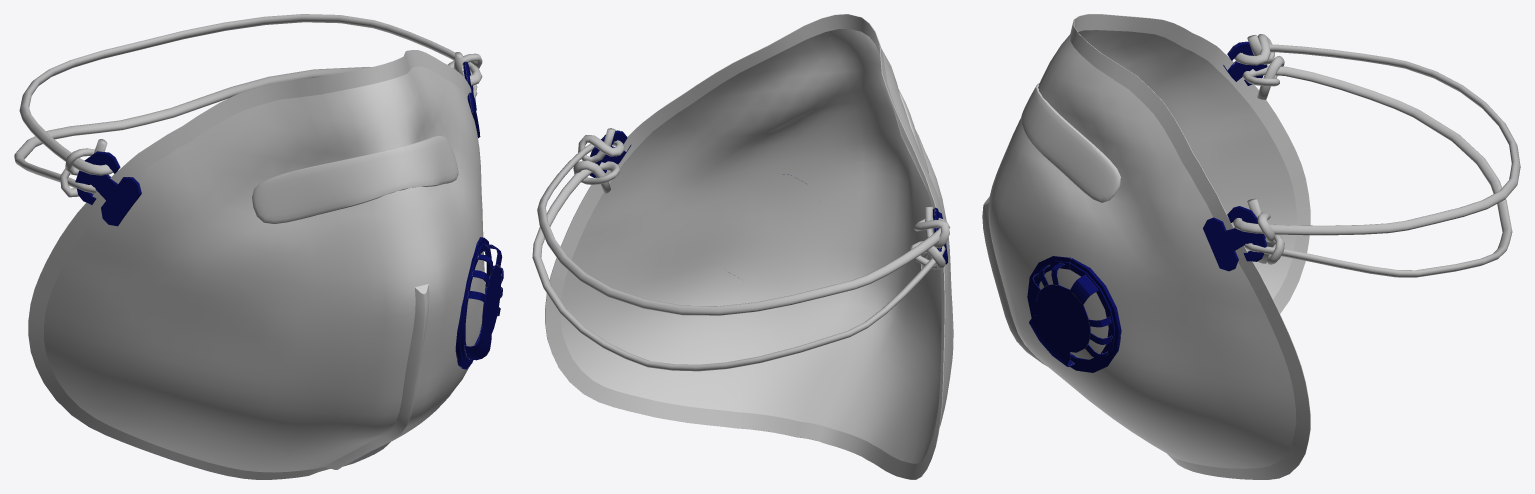
File: face mask.fbx
3 renders of one model, left to right at view 1: azimuth 30°, elevation 25°; view 2: azimuth 150°, elevation 25°; view 3: azimuth 270°, elevation 25°, orthographic. The views are drawn at different scales.
Visible parts, largest first — view 1: misc1; view 2: misc1; view 3: misc1.
Part boxes in pixels (left/top/right/bottom): misc1: left=14, top=14, right=503, bottom=479; misc1: left=532, top=14, right=953, bottom=479; misc1: left=982, top=14, right=1520, bottom=479.
Bounding box in the file's own units: 11.37 × 10.75 × 12.65.
